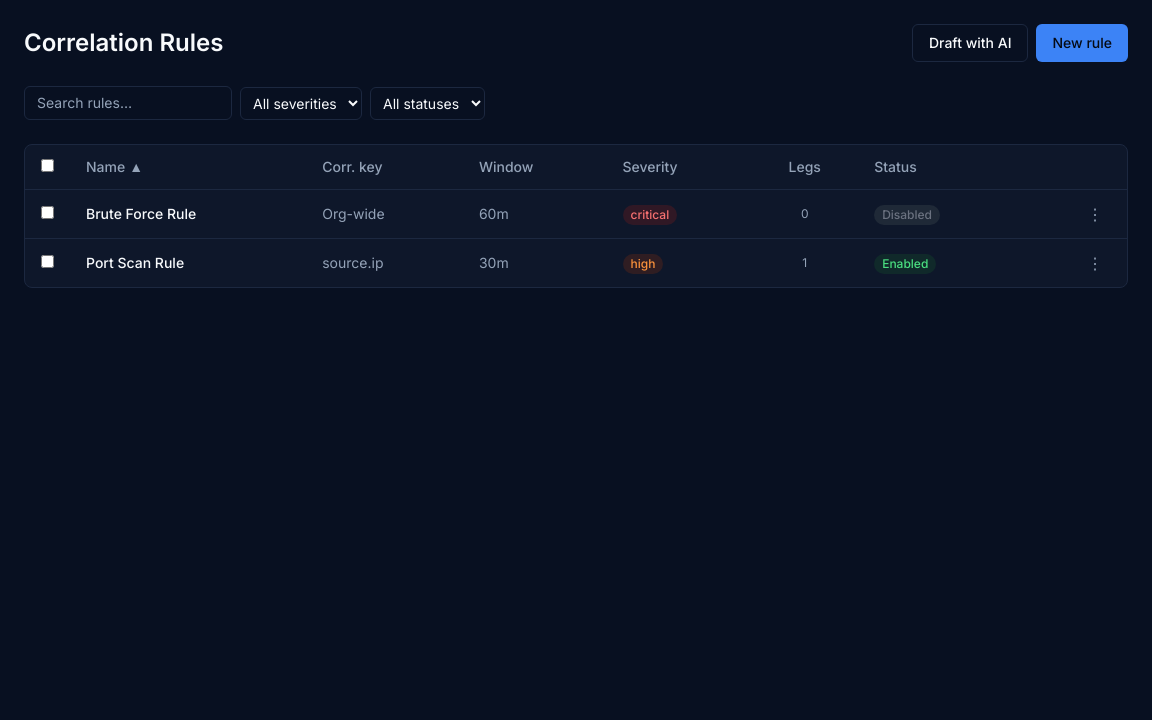
Test: CorrelationRulesAdmin › opens the drawer when New rule is clicked
Expected: the heading "Correlation Rules" is shown, [24,27,223,59]
Click the button "New rule" at {"x": 1082, "y": 43}, box [1036,24,1128,62]
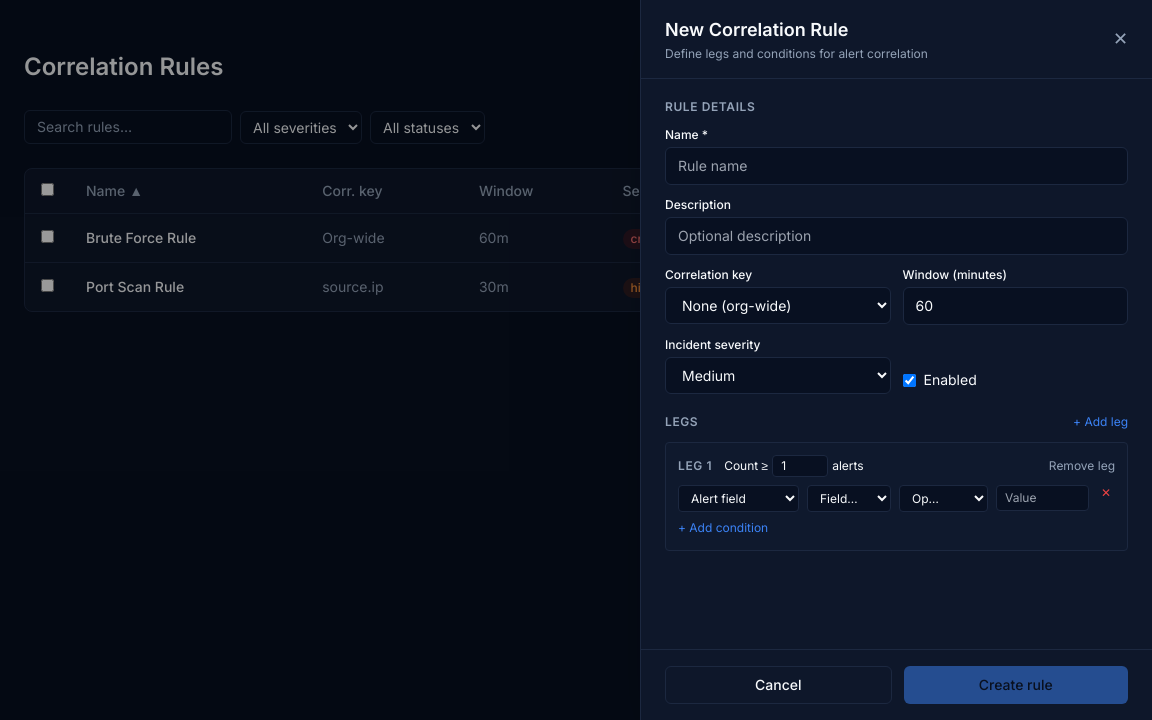
Expected: the heading "New Correlation Rule" is shown, [665,19,848,40]
